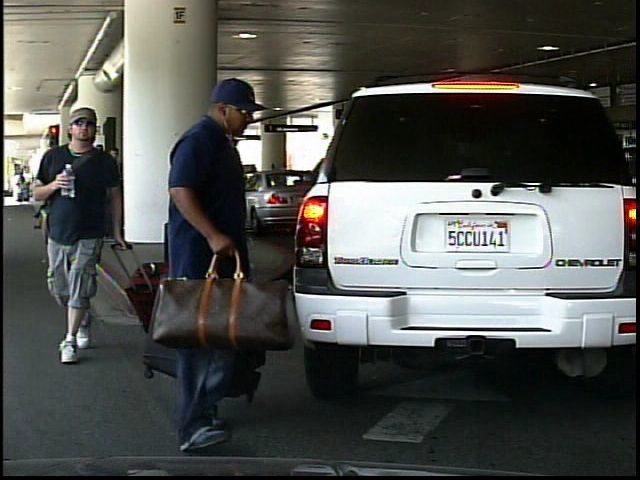person: (154, 75, 285, 449), (38, 101, 128, 363), (163, 130, 227, 272)
